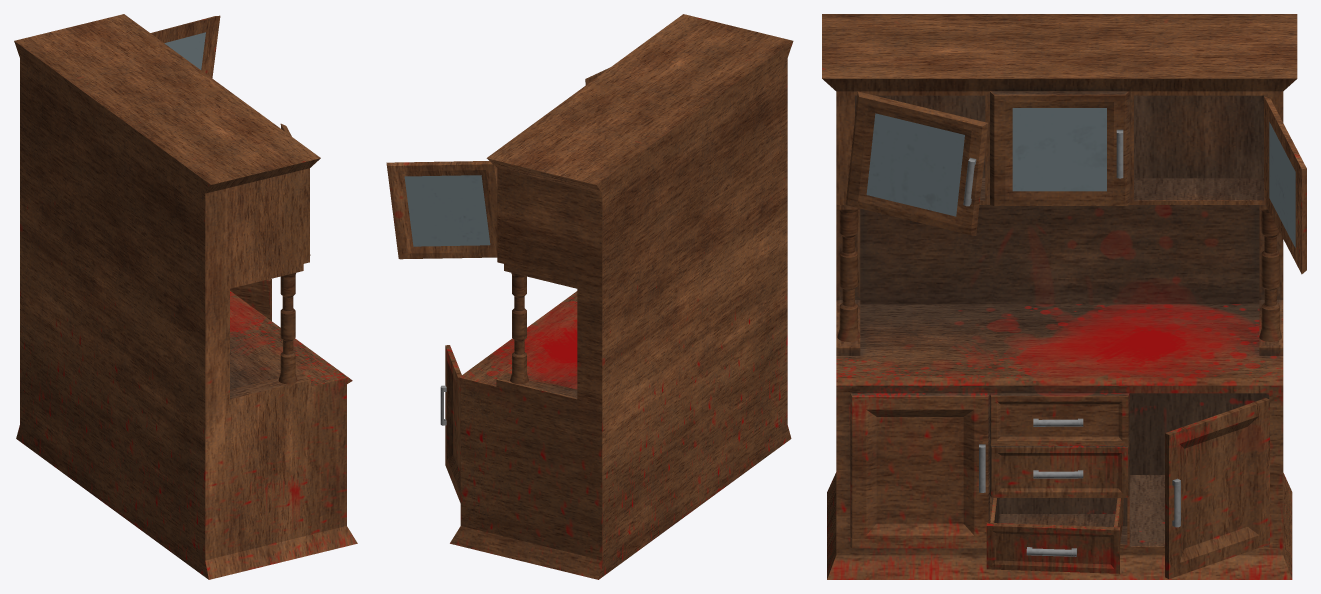
Rendered from display_cabinet.glb.
3 renders of one model, left to right at view 1: azimuth 30°, elevation 25°; view 2: azimuth 150°, elevation 25°; view 3: azimuth 270°, elevation 25°, orthographic. The views are drawn at different scales.
Parts seen in each view (by area): view 1: Display Cabinet.003, Holders.001, Display Cabinet.005, Door1.001, Glass2; view 2: Display Cabinet.003, Glass2, Display Cabinet.005, Door1.001, Holders.001; view 3: Display Cabinet.003, Door1.001, Glass3, Drawer 1.001, Display Cabinet.004, Glass, Holders.001, Display Cabinet.005, Glass2.
Boxes of the visible parts, x1,y1,x2,y2 form: Display Cabinet.003: (14,14,357,579); Holders.001: (278,273,297,384); Display Cabinet.005: (150,15,220,78); Door1.001: (230,279,271,320); Glass2: (164,32,205,69); Display Cabinet.003: (450,14,793,579); Glass2: (404,175,490,246); Display Cabinet.005: (386,161,497,259); Door1.001: (445,345,461,502); Holders.001: (510,273,528,384); Display Cabinet.003: (822,14,1297,579); Door1.001: (1165,398,1269,578); Glass3: (1012,108,1106,191); Drawer 1.001: (986,498,1123,573); Display Cabinet.004: (845,91,988,235); Glass: (866,113,964,216); Holders.001: (837,209,1281,341); Display Cabinet.005: (1264,96,1306,274); Glass2: (1269,122,1295,247).
Size of the model in its own units: 1.22 by 2.22 by 2.04.
3 materials, 3 textured.
